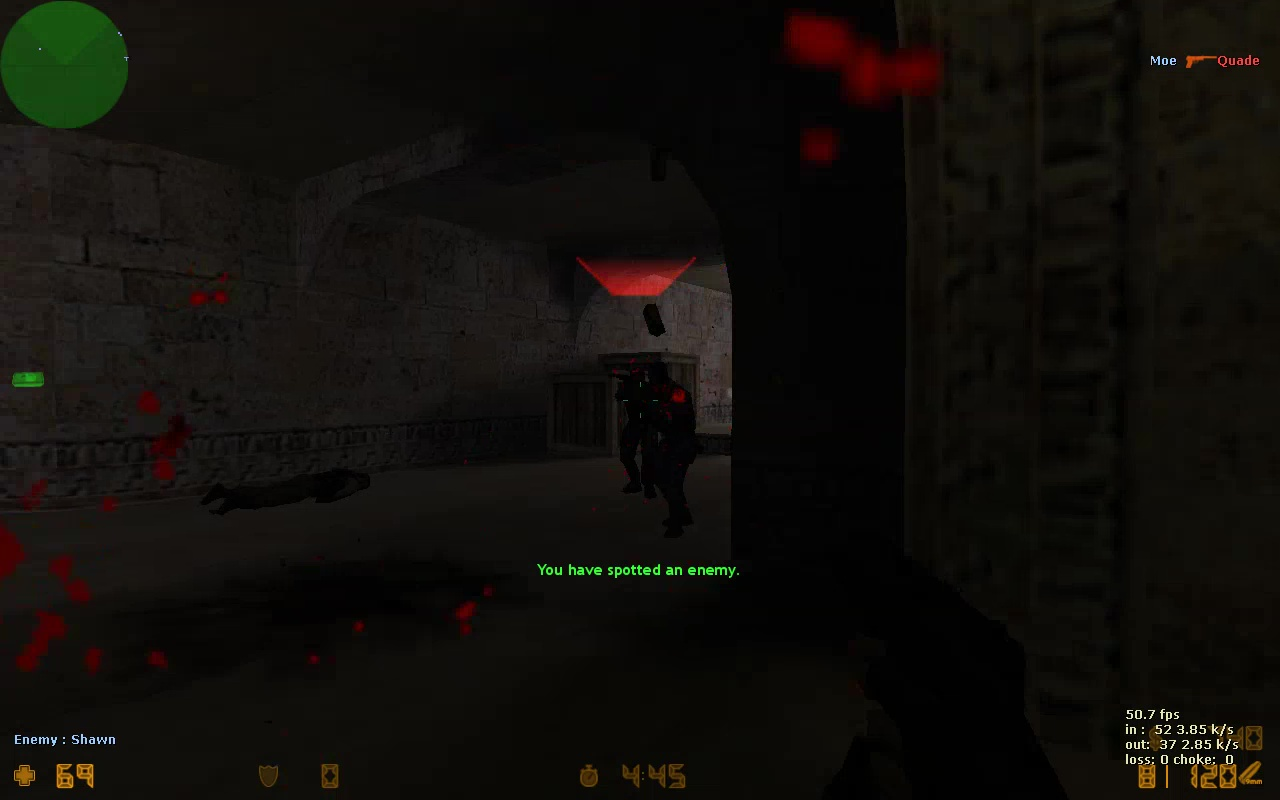ct: (620, 362, 688, 541)
dead: (210, 462, 370, 517)
